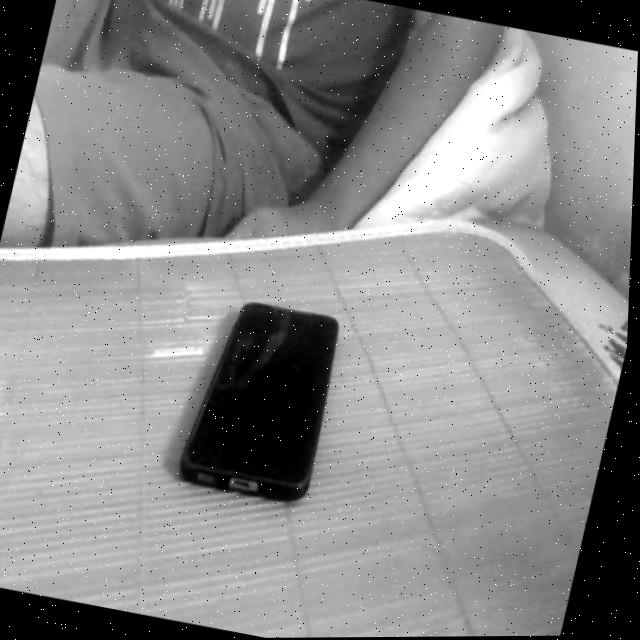phone: (166, 257, 374, 540)
